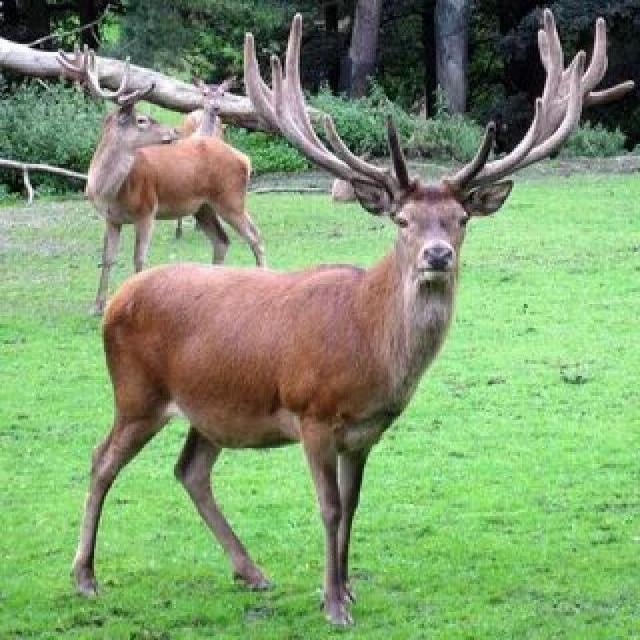deer: (84, 177, 588, 640), (86, 95, 288, 310)
